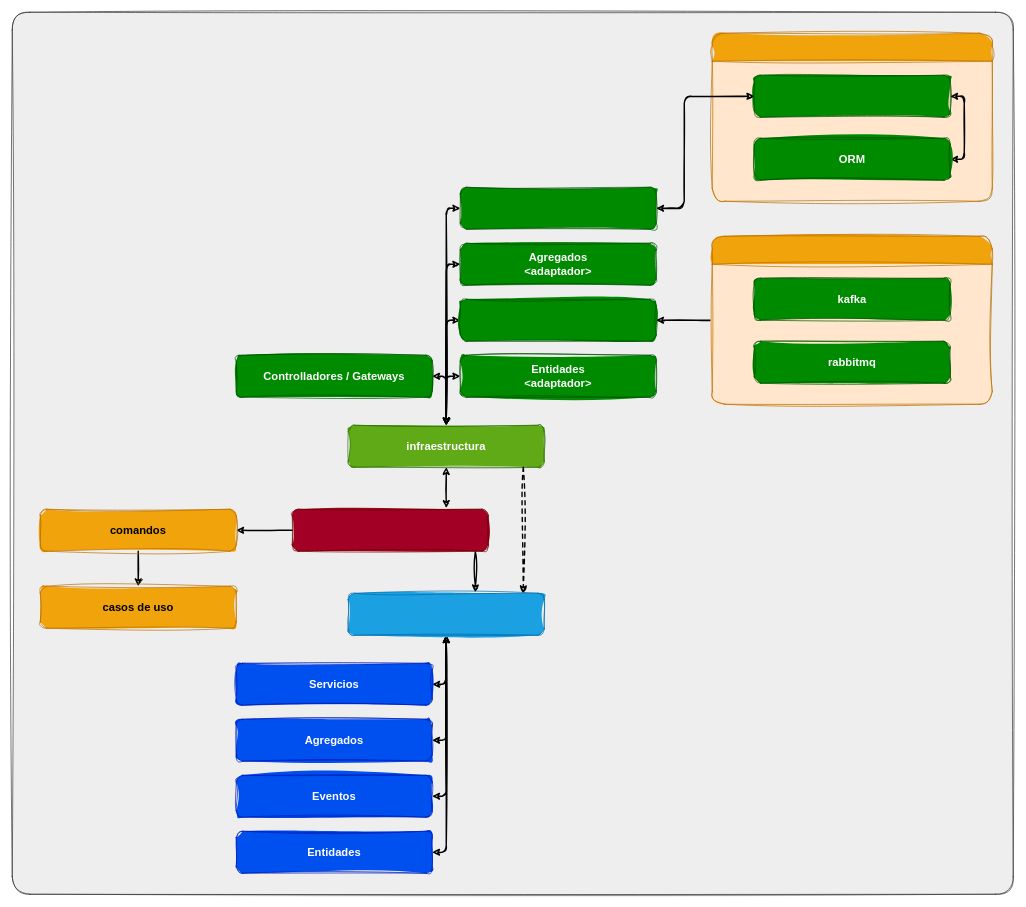
The diagram is 1026 pixels wide and 907 high, and some of its shapes have lost their labels. The box of each missing label's shape, as (x1, y1, x2, y2) in pixels:
aplicación: (292, 509, 488, 551)
dominio: (348, 593, 544, 635)
Eventos <adaptador>: (460, 299, 656, 341)
Mensajería: (712, 236, 992, 404)
Persistencia: (712, 33, 992, 201)
Repositorios: (754, 75, 950, 117)
Servicios <adaptador>: (460, 187, 656, 229)
